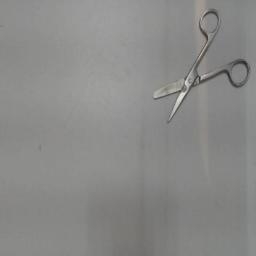Dressing Scissors: (146, 6, 254, 130)
